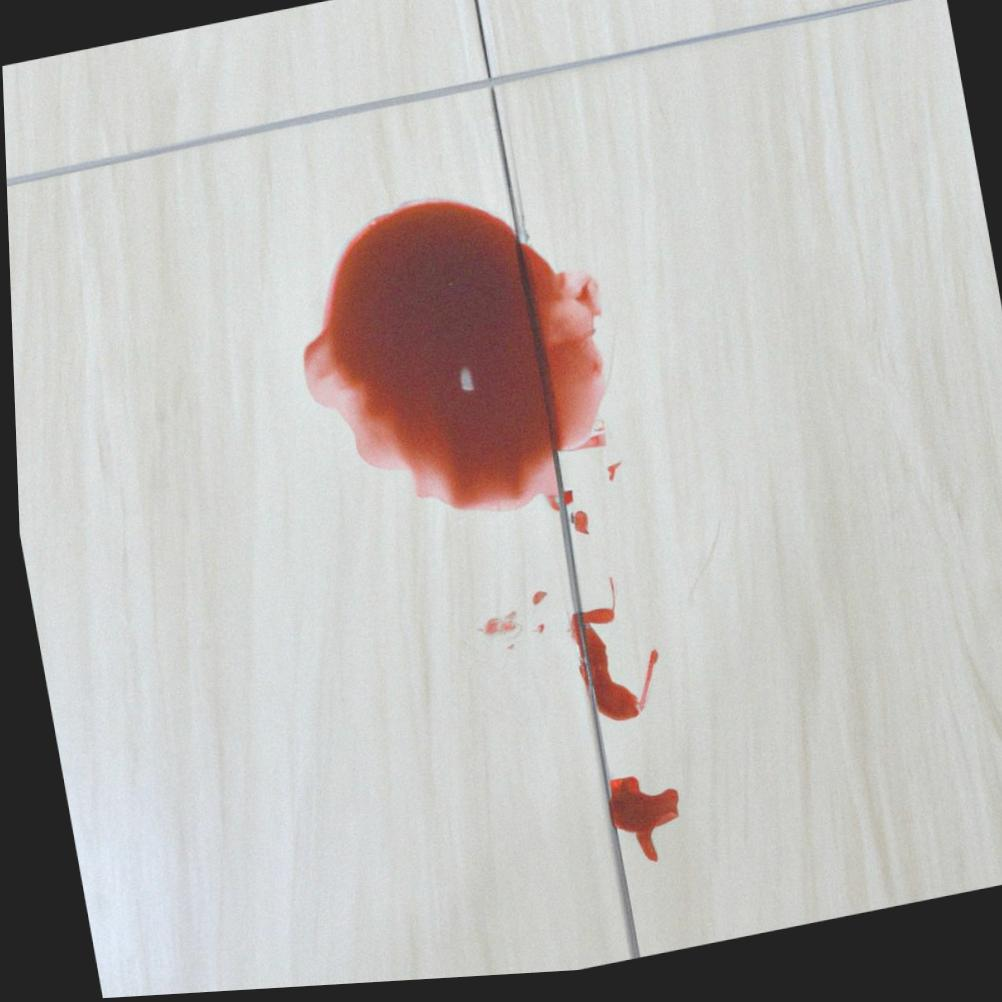Fire: (300, 202, 603, 517), (575, 614, 634, 728), (563, 619, 585, 698)
